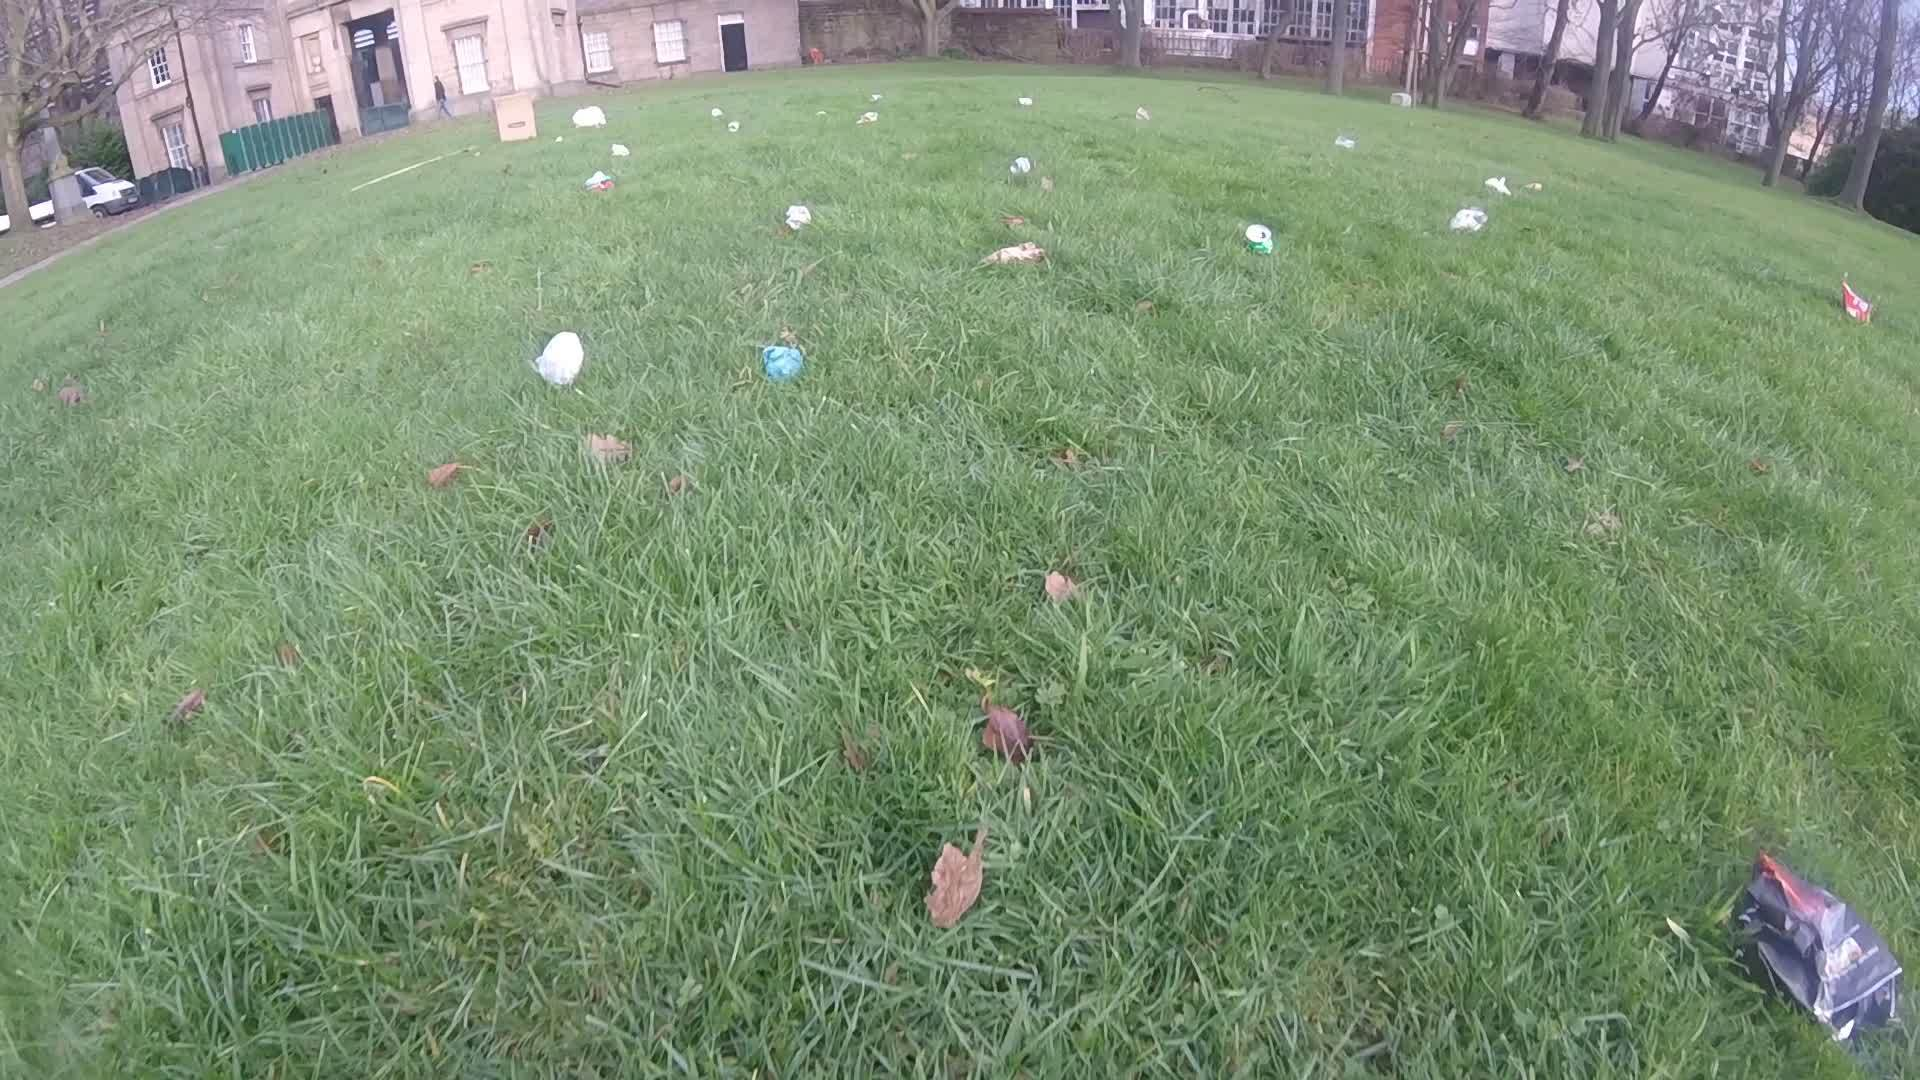litter: (1738, 847, 1899, 1058), (537, 334, 584, 389), (492, 94, 539, 142), (1838, 278, 1871, 328), (760, 347, 804, 380), (985, 244, 1040, 266), (1242, 222, 1273, 255), (567, 105, 612, 127), (1451, 210, 1487, 233), (1480, 174, 1511, 198), (782, 203, 808, 231), (583, 171, 615, 193), (851, 109, 877, 127), (1010, 157, 1031, 175), (607, 142, 630, 158), (1331, 137, 1354, 152), (1135, 108, 1150, 123), (709, 105, 727, 115), (728, 119, 738, 132), (1524, 179, 1539, 189), (1015, 98, 1031, 105), (868, 92, 882, 100), (550, 136, 564, 142)
